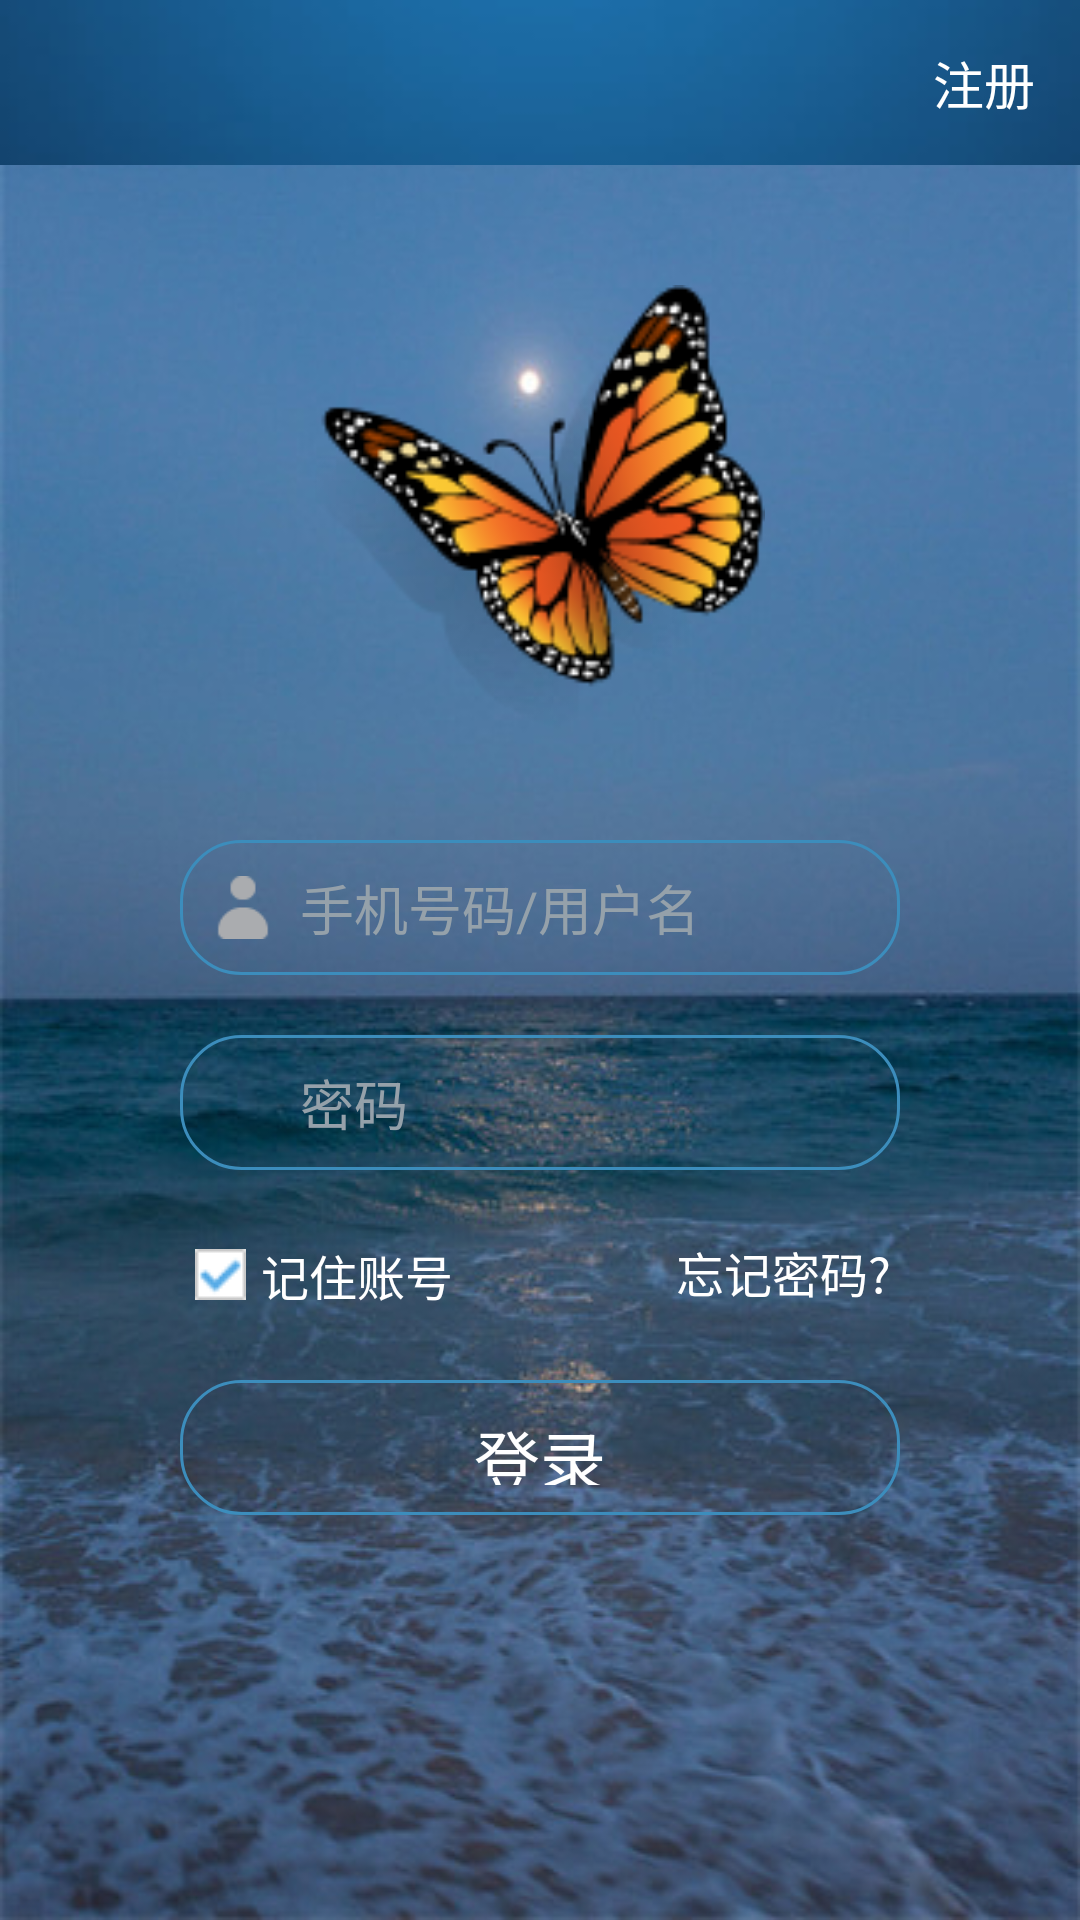

Where to tap for icons on this 1080*1920 app screen, as (x,y):
user: (243,907)
